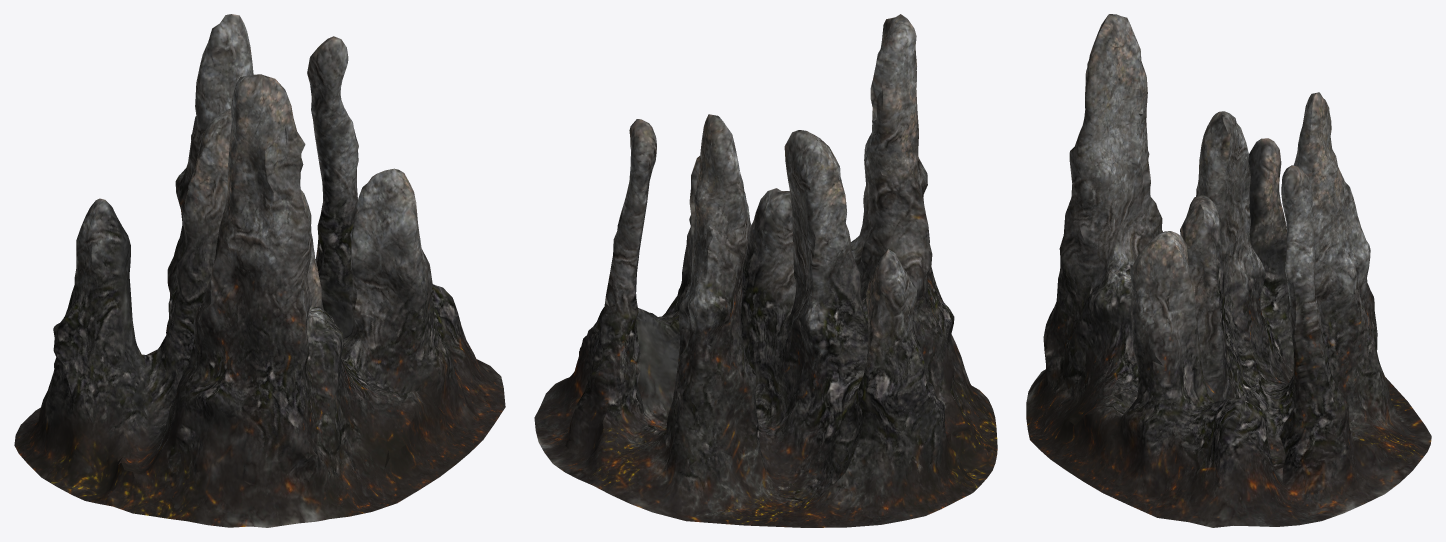
Rendered from StalagmiteB.fbx.
3 views of the same model, side by side, from view 1: azimuth 30°, elevation 25°; view 2: azimuth 150°, elevation 25°; view 3: azimuth 270°, elevation 25° (orthographic). The views are drawn at different scales.
Visible parts, largest first — view 1: StalagmiteB; view 2: StalagmiteB; view 3: StalagmiteB.
Part boxes in pixels (bbox=[...]): StalagmiteB: bbox=[14, 14, 505, 527]; StalagmiteB: bbox=[534, 14, 997, 527]; StalagmiteB: bbox=[1026, 14, 1431, 527].
Bounding box in the file's own units: 400 × 364 × 346.
1 material, 1 textured.
